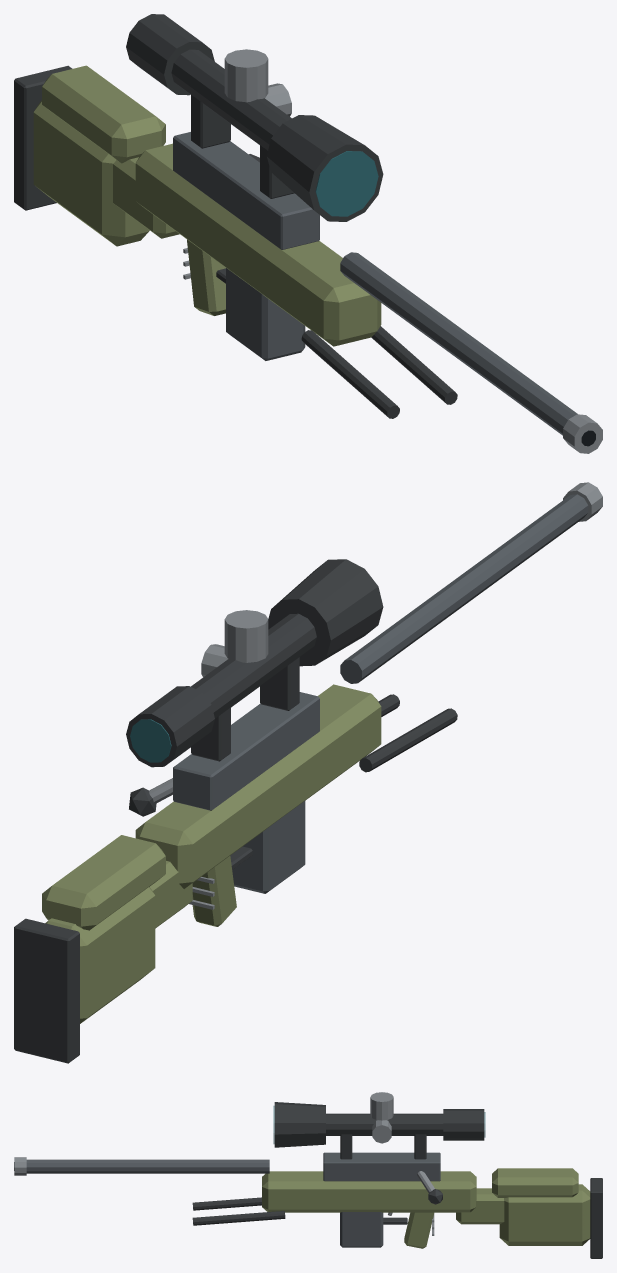
The model's file is weapon_awp.glb.
The picture shows the model from 3 angles, top to bottom: view 1: azimuth 30°, elevation 25°; view 2: azimuth 150°, elevation 25°; view 3: azimuth 270°, elevation 25°; orthographic projection. The views are drawn at different scales.
Parts seen in each view (by area): view 1: Body; view 2: Body; view 3: Body.
Part boxes in pixels (x1,y1,x2,y2): Body: [14, 14, 602, 453]; Body: [14, 482, 602, 1063]; Body: [14, 1092, 602, 1258].
Bounding box in the file's own units: 0.1252 × 0.3345 × 1.15.
